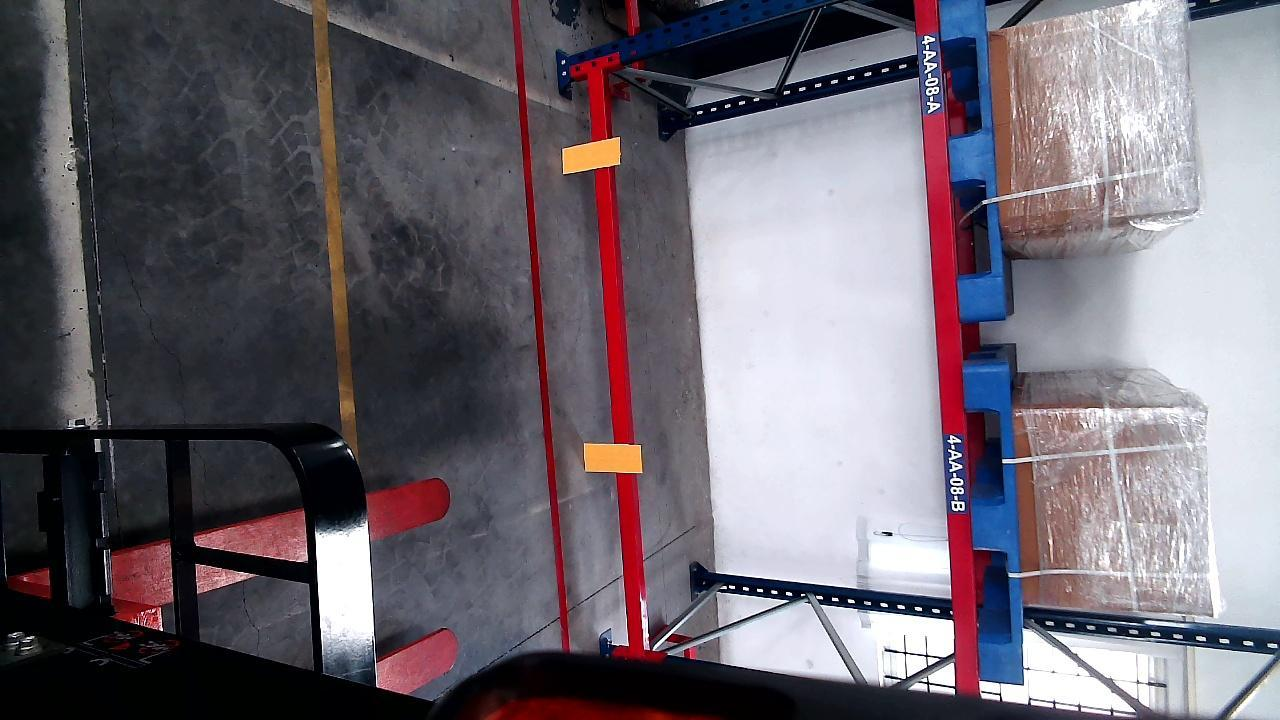red_line: (506, 2, 572, 647)
yellow_line: (314, 1, 357, 452)
